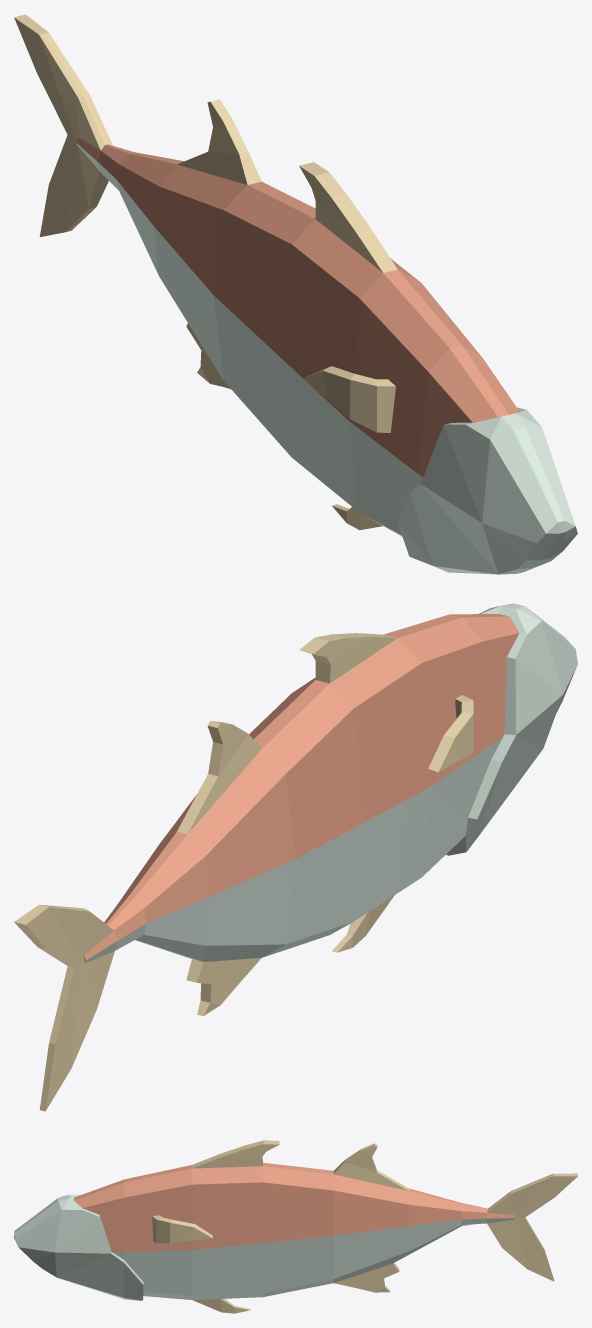
The model's file is fishe1.glb.
3 renders of one model, top to bottom at view 1: azimuth 30°, elevation 25°; view 2: azimuth 150°, elevation 25°; view 3: azimuth 270°, elevation 25°, orthographic. The views are drawn at different scales.
Parts seen in each view (by area): view 1: Fish; view 2: Fish; view 3: Fish.
Part boxes in pixels (x1,y1,x2,y2): Fish: [14, 14, 577, 574]; Fish: [14, 603, 577, 1111]; Fish: [14, 1140, 577, 1313].
Size of the model in its own units: 0.0861 by 0.199 by 0.5959.
